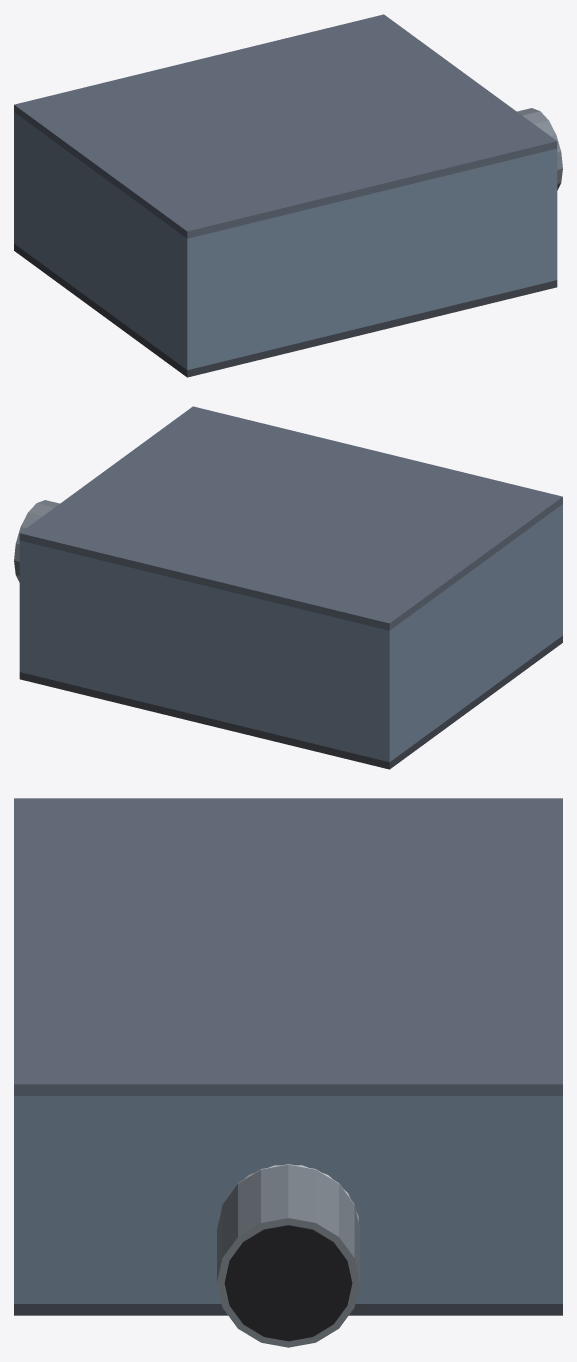
File: room1-cryochamber-optimized.glb
The picture shows the model from 3 angles, top to bottom: view 1: azimuth 30°, elevation 25°; view 2: azimuth 150°, elevation 25°; view 3: azimuth 270°, elevation 25°; orthographic projection. The views are drawn at different scales.
Visible parts, largest first — view 1: Steny, Strop, Podlaha, Tunel_Za_Poklopom; view 2: Steny, Strop, Podlaha, Tunel_Za_Poklopom; view 3: Strop, Steny, Tunel_Za_Poklopom, Podlaha.
Boxes of the visible parts, box(x1,y1,x2,y2) form: Steny: box(14, 112, 557, 370); Strop: box(14, 14, 557, 238); Podlaha: box(14, 243, 557, 377); Tunel_Za_Poklopom: box(517, 108, 562, 190); Steny: box(19, 504, 562, 762); Strop: box(19, 406, 562, 630); Podlaha: box(19, 635, 562, 769); Tunel_Za_Poklopom: box(14, 500, 59, 582); Strop: box(14, 798, 562, 1095); Steny: box(14, 1096, 562, 1303); Tunel_Za_Poklopom: box(217, 1164, 359, 1347); Podlaha: box(14, 1304, 562, 1315).
Size of the model in its own units: 12.63 by 4 by 8.6.
